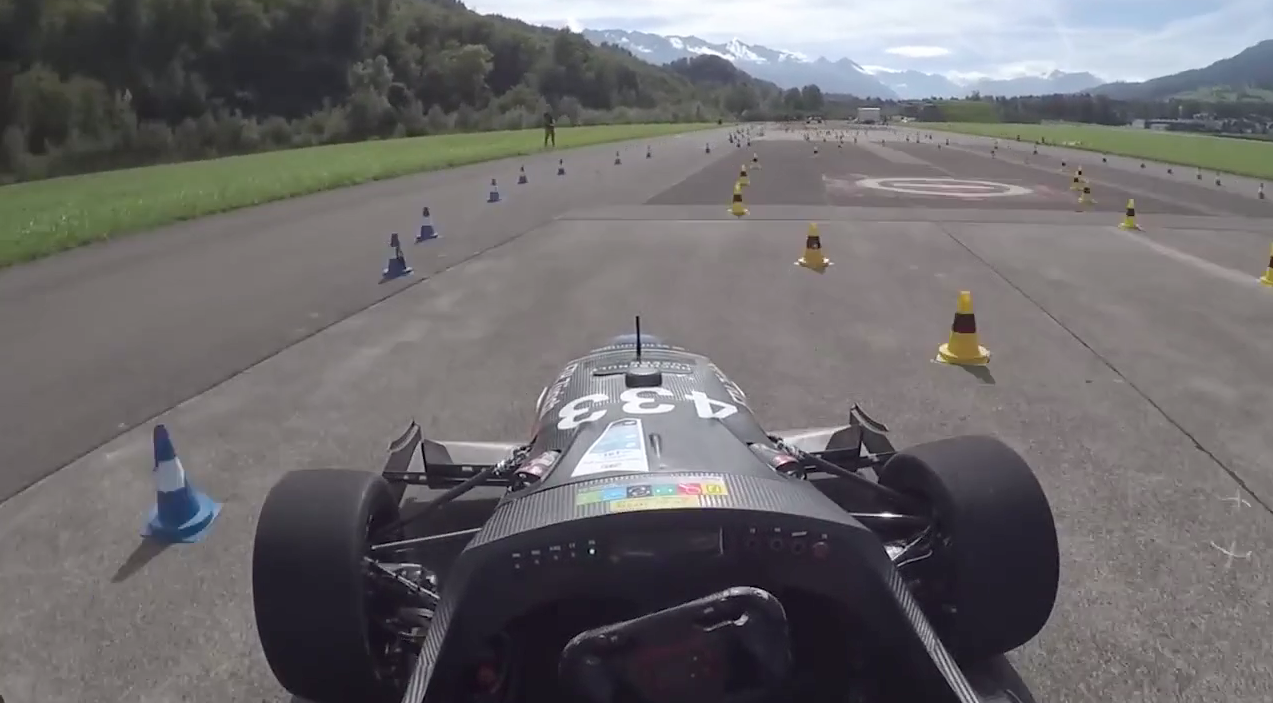lcone: (124, 414, 231, 549), (375, 231, 414, 285), (414, 203, 445, 243), (483, 174, 508, 205)
rcone: (925, 286, 995, 374), (789, 219, 835, 278), (723, 181, 753, 218), (1115, 196, 1144, 231)
